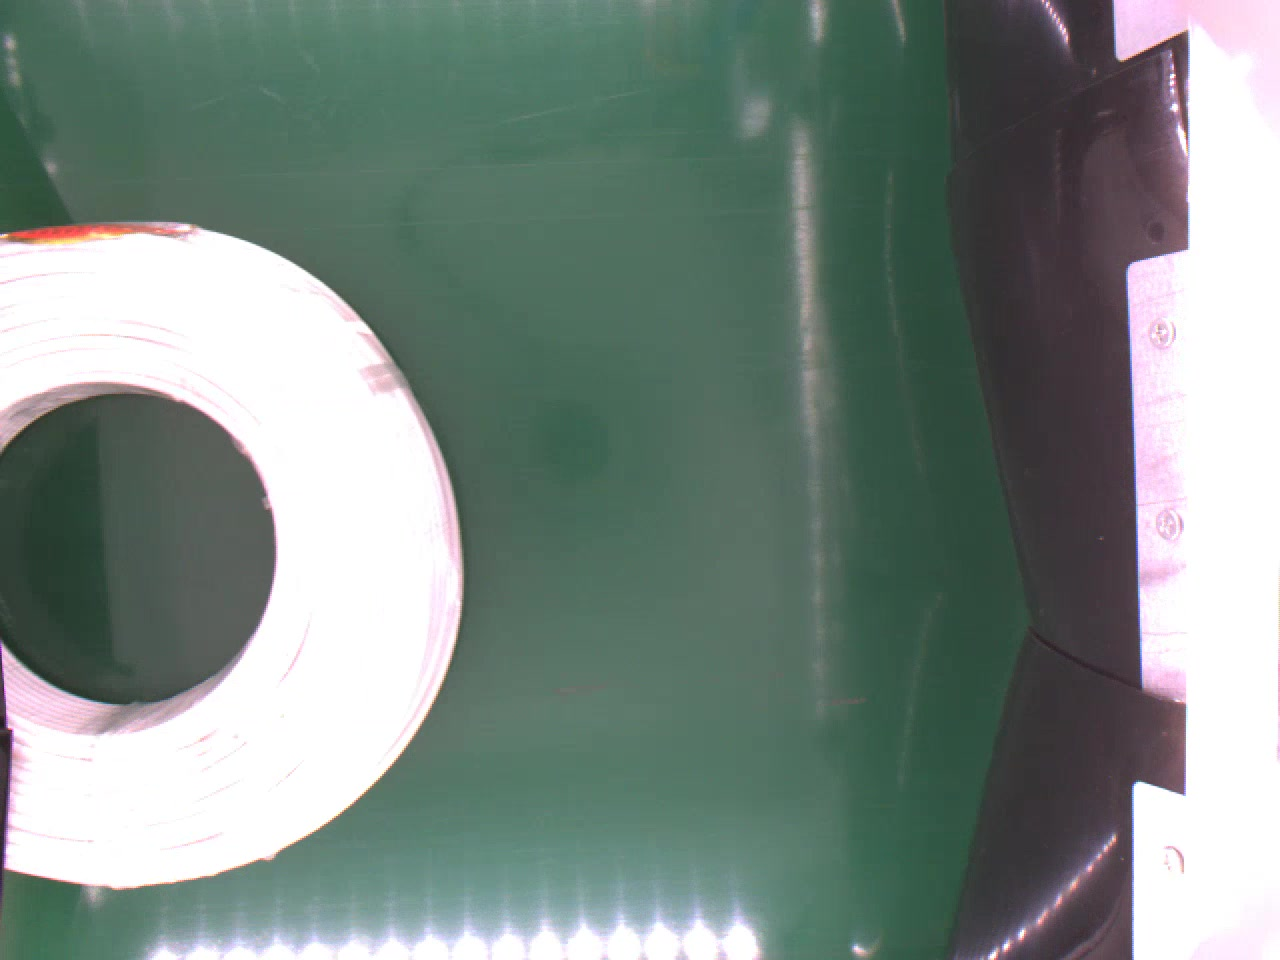white: (0, 218, 465, 891)
